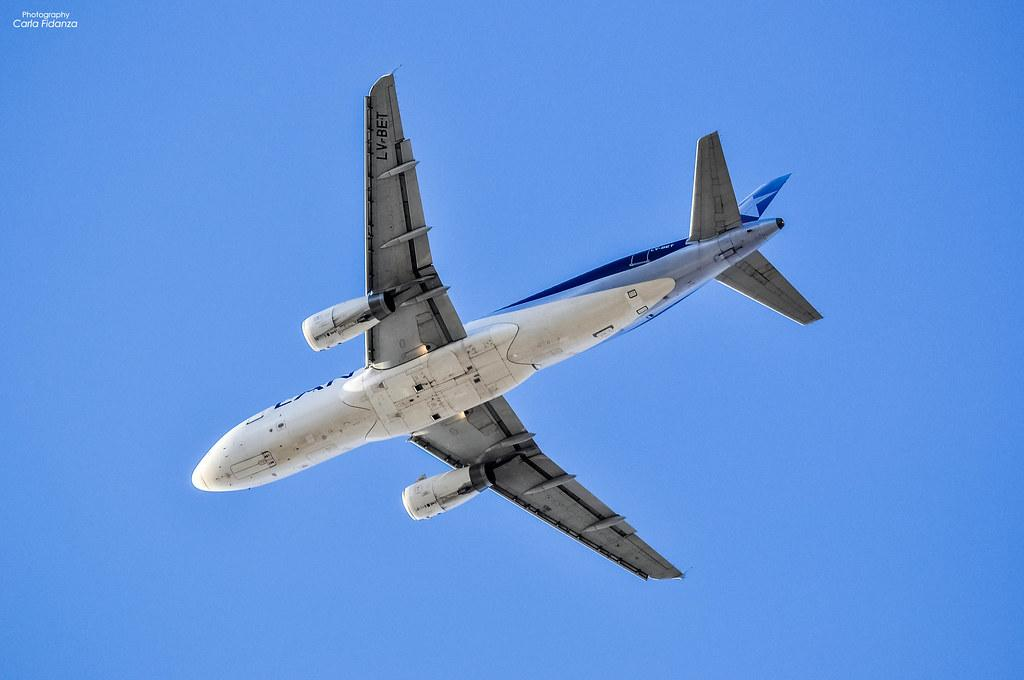plane: (190, 66, 824, 583)
